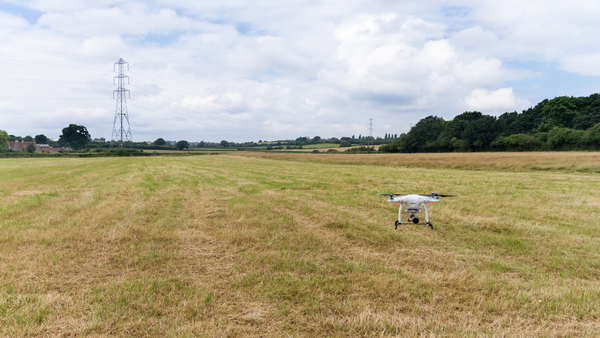drone: (377, 191, 460, 232)
